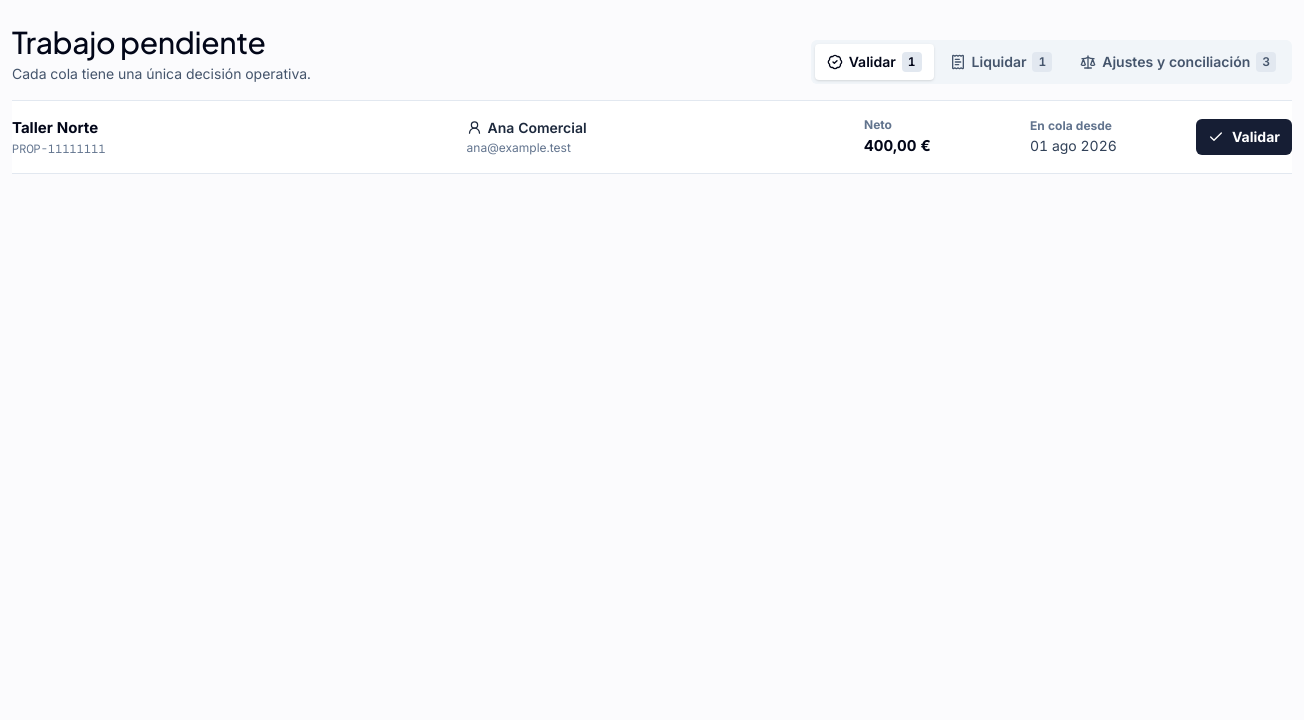
Test case: CommissionOperationsPanel › previews the server-equivalent proportional permanence calculation
Click the button "Ajustes y conciliación 3": click(1178, 62) [1068, 44, 1288, 80]
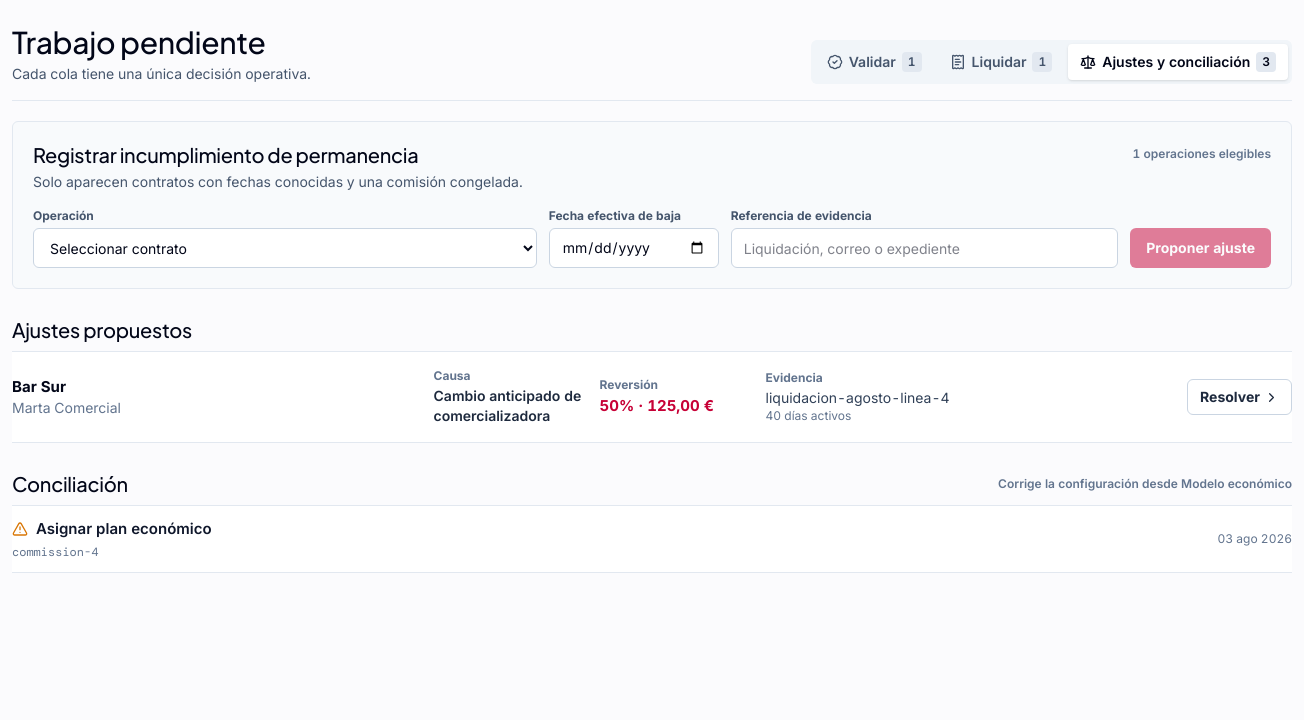
Select "Industria Norte · Ana Comercial · hasta 2027-01-01" in the dropdown labelled "Operación": (285, 248) [33, 228, 537, 268]
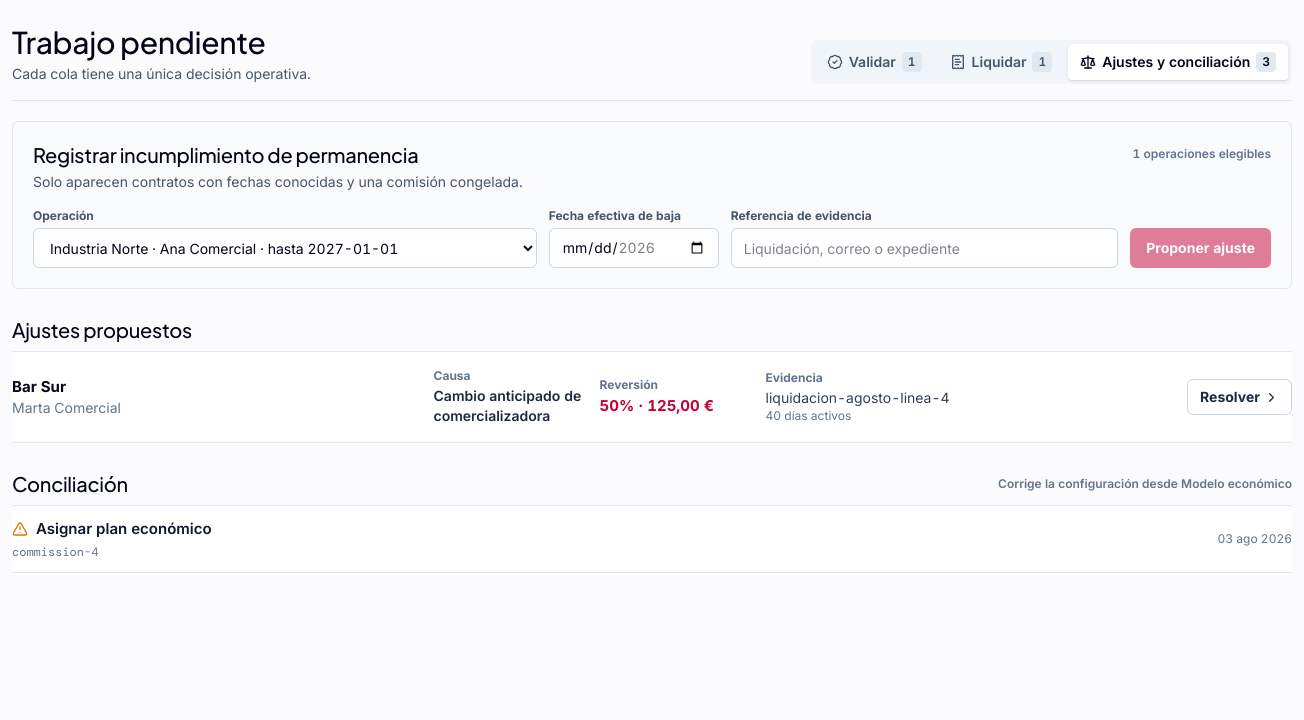
In the date field labelled "Fecha efectiva de baja": (634, 248) [549, 228, 719, 268], type "2026-07-02"
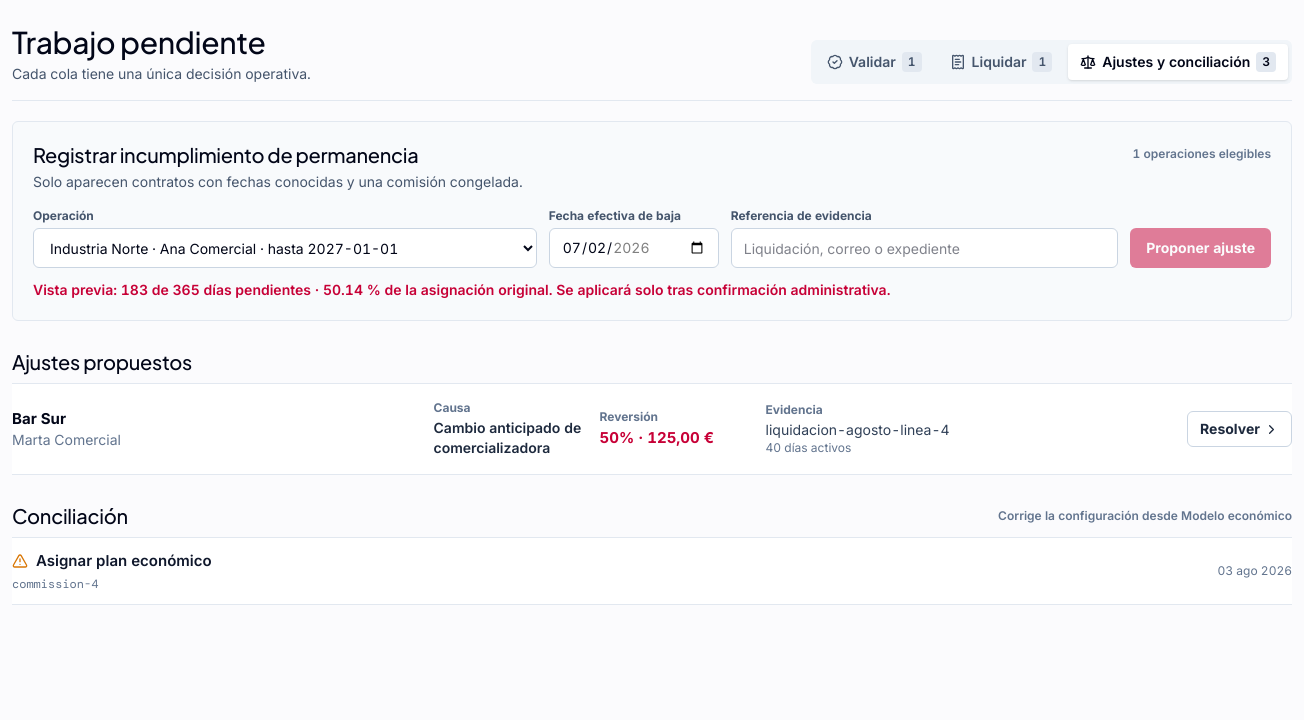
Check: the text "183 de 365 días pendientes · 50.14 %" is shown, box [33, 281, 890, 298]
